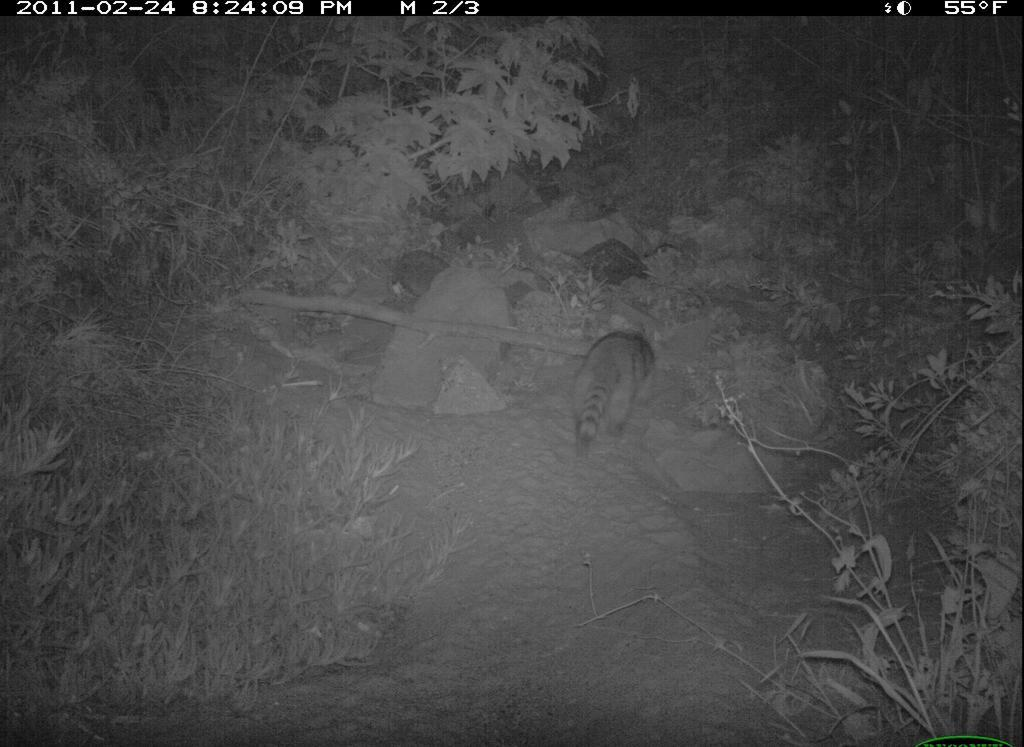raccoon: (561, 322, 669, 469)
